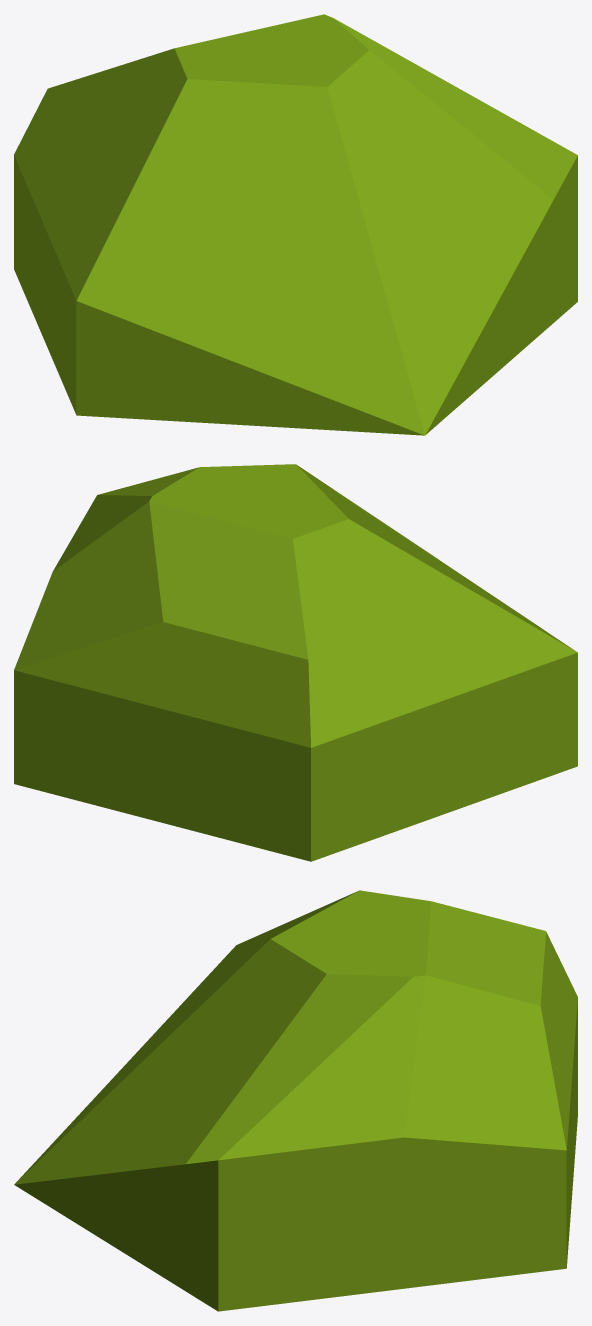
The model's file is tree-summer-leaves-004.glb.
3 renders of one model, top to bottom at view 1: azimuth 30°, elevation 25°; view 2: azimuth 150°, elevation 25°; view 3: azimuth 270°, elevation 25°, orthographic. The views are drawn at different scales.
Parts seen in each view (by area): view 1: Circle.007_225; view 2: Circle.007_225; view 3: Circle.007_225.
Part boxes in pixels (x1,y1,x2,y2): Circle.007_225: [14, 14, 577, 435]; Circle.007_225: [14, 464, 577, 861]; Circle.007_225: [14, 890, 577, 1311].
Bounding box in the file's own units: 0.8686 × 0.423 × 0.8344.
